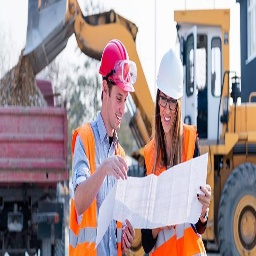helmet: (97, 38, 136, 100), (155, 48, 186, 106)
no-vest: (145, 126, 211, 253), (70, 121, 127, 256)
person: (144, 47, 208, 256), (69, 38, 129, 253)
